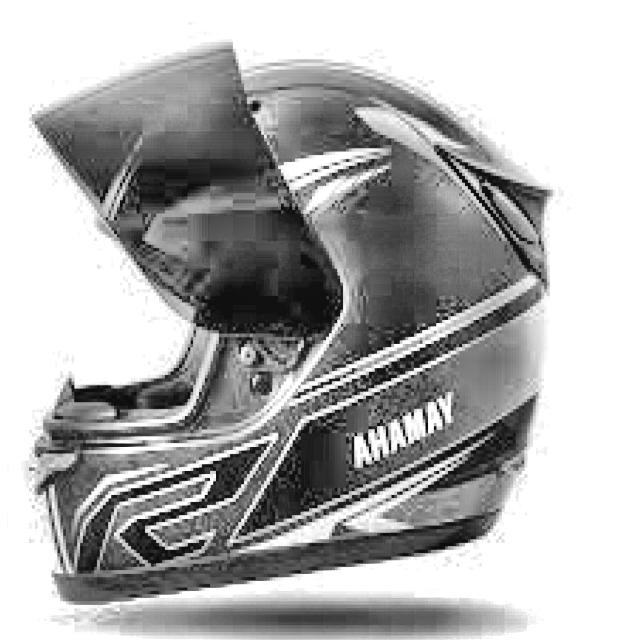Helmet: (7, 26, 582, 629)
